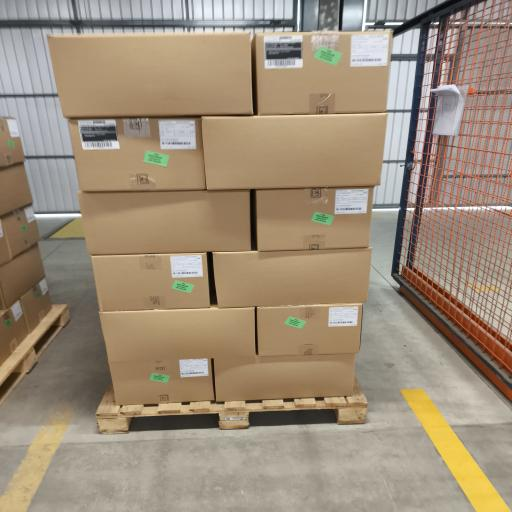pallet: (96, 378, 367, 433), (0, 305, 69, 404)
